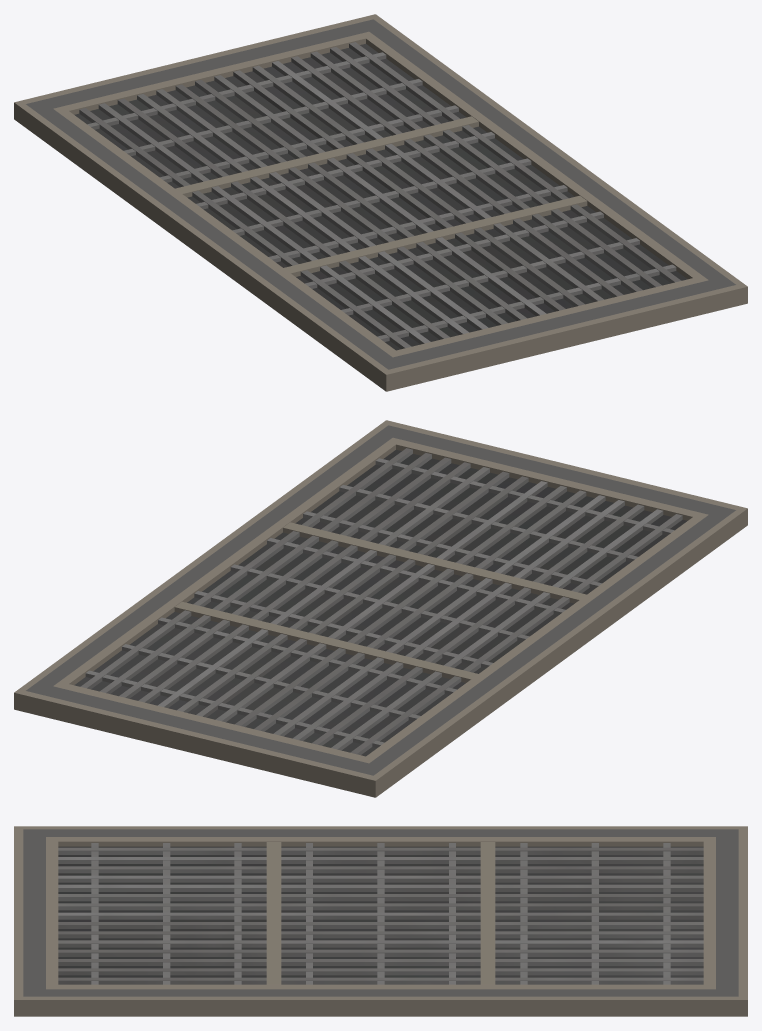
The model's file is Grate_1_A.fbx.
3 views of the same model, one above another, from view 1: azimuth 30°, elevation 25°; view 2: azimuth 150°, elevation 25°; view 3: azimuth 270°, elevation 25° (orthographic).
Visible parts, largest first — view 1: Grate_1_A; view 2: Grate_1_A; view 3: Grate_1_A.
Boxes of the visible parts, x1,y1,x2,y2 form: Grate_1_A: [14, 14, 747, 391]; Grate_1_A: [14, 420, 747, 797]; Grate_1_A: [14, 826, 747, 1016].
Size of the model in its own units: 81.5 by 3.65 by 145.
